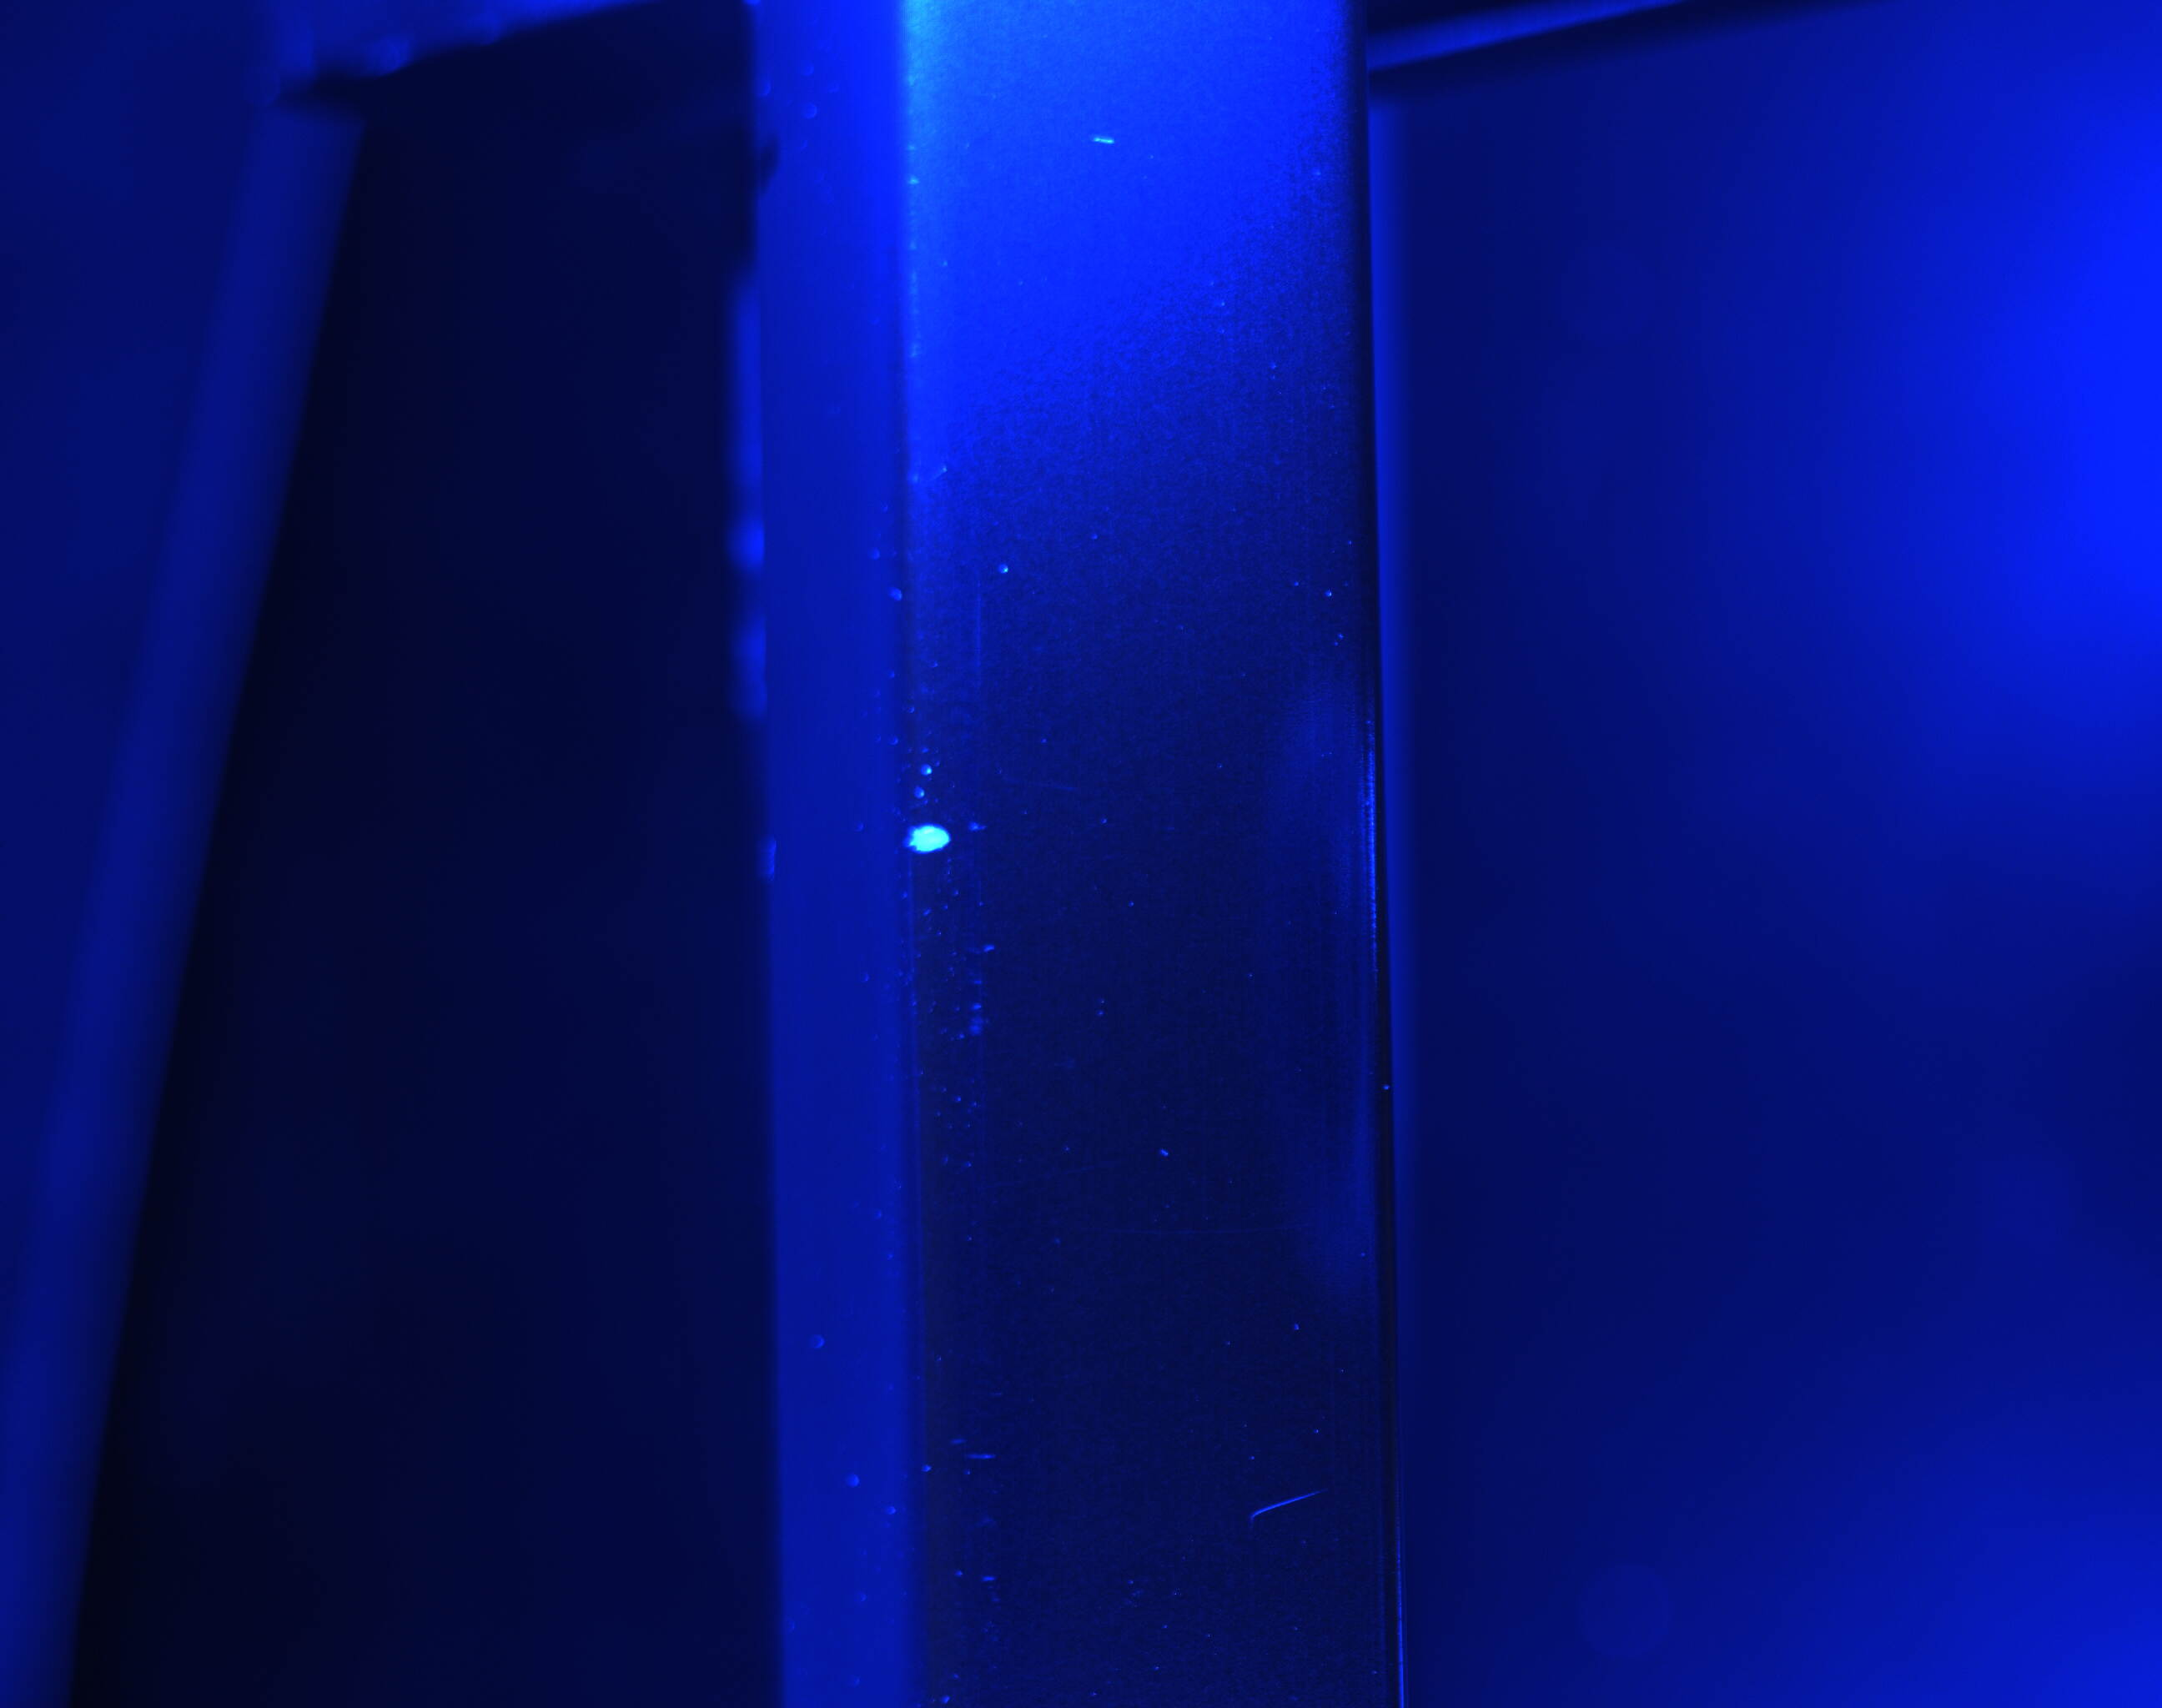NG: (895, 790, 984, 888), (1237, 1469, 1334, 1543), (1072, 111, 1132, 179)
